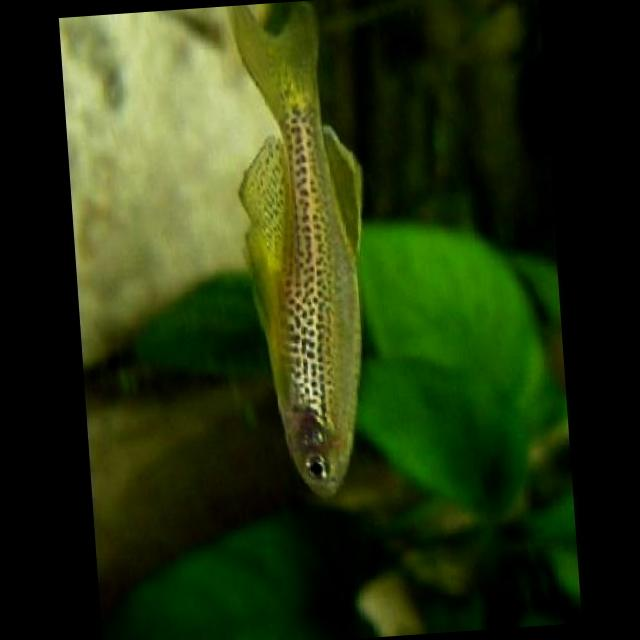ZebraFish: (250, 85, 382, 502)
